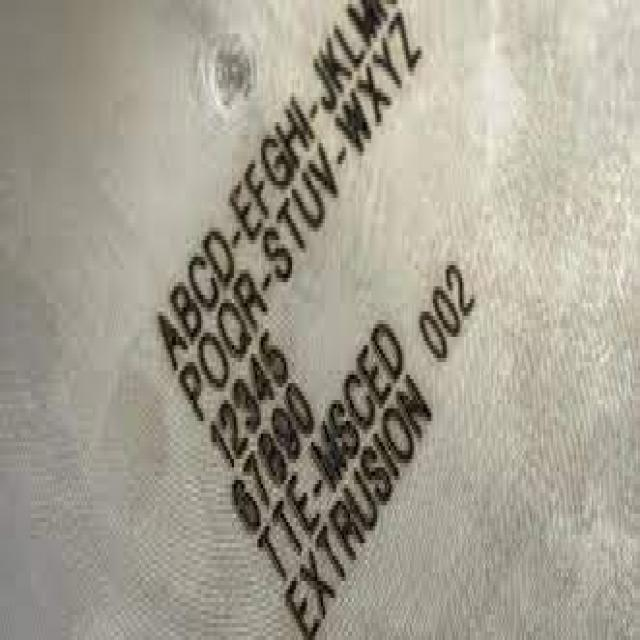ocr: (148, 0, 485, 631)
